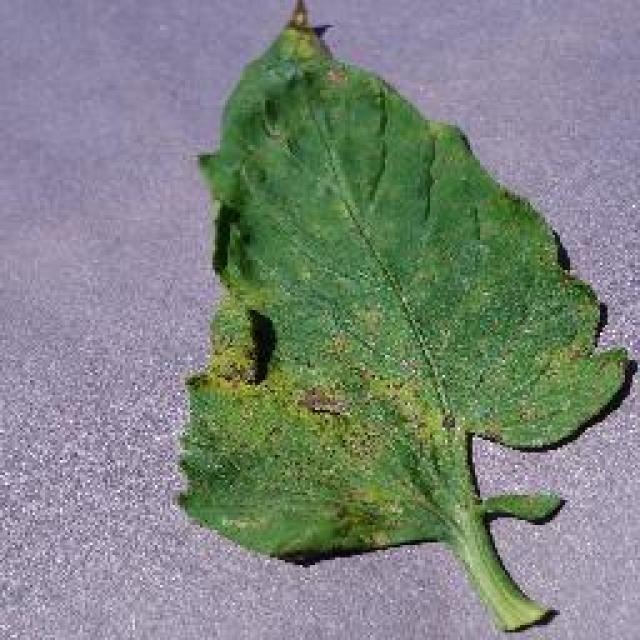Tomato___Septoria_leaf_spot: (180, 0, 628, 628)
